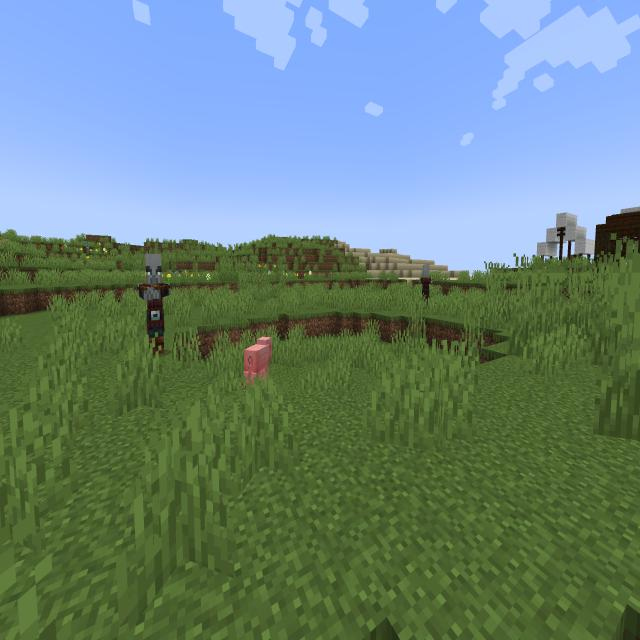pig: (237, 332, 280, 397)
